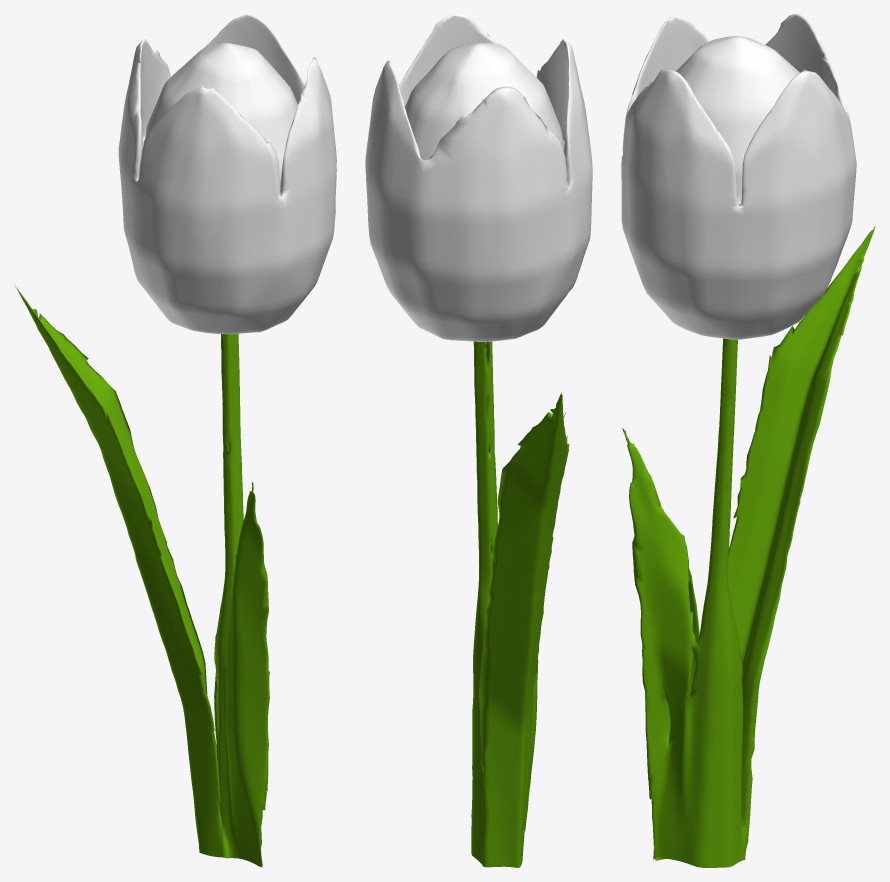
File: white2.glb
The picture shows the model from 3 angles, left to right: view 1: azimuth 30°, elevation 25°; view 2: azimuth 150°, elevation 25°; view 3: azimuth 270°, elevation 25°; orthographic projection. The views are drawn at different scales.
Visible parts, largest first — view 1: tulip_white, tulip_leaf; view 2: tulip_white, tulip_leaf; view 3: tulip_white, tulip_leaf.
Boxes of the visible parts, bbox=[...] form: tulip_white: bbox=[118, 14, 336, 334]; tulip_leaf: bbox=[14, 285, 269, 866]; tulip_white: bbox=[365, 14, 592, 341]; tulip_leaf: bbox=[471, 341, 569, 867]; tulip_white: bbox=[621, 14, 856, 339]; tulip_leaf: bbox=[622, 226, 875, 867].
Size of the model in its own units: 0.2801 by 0.8916 by 0.2477.
